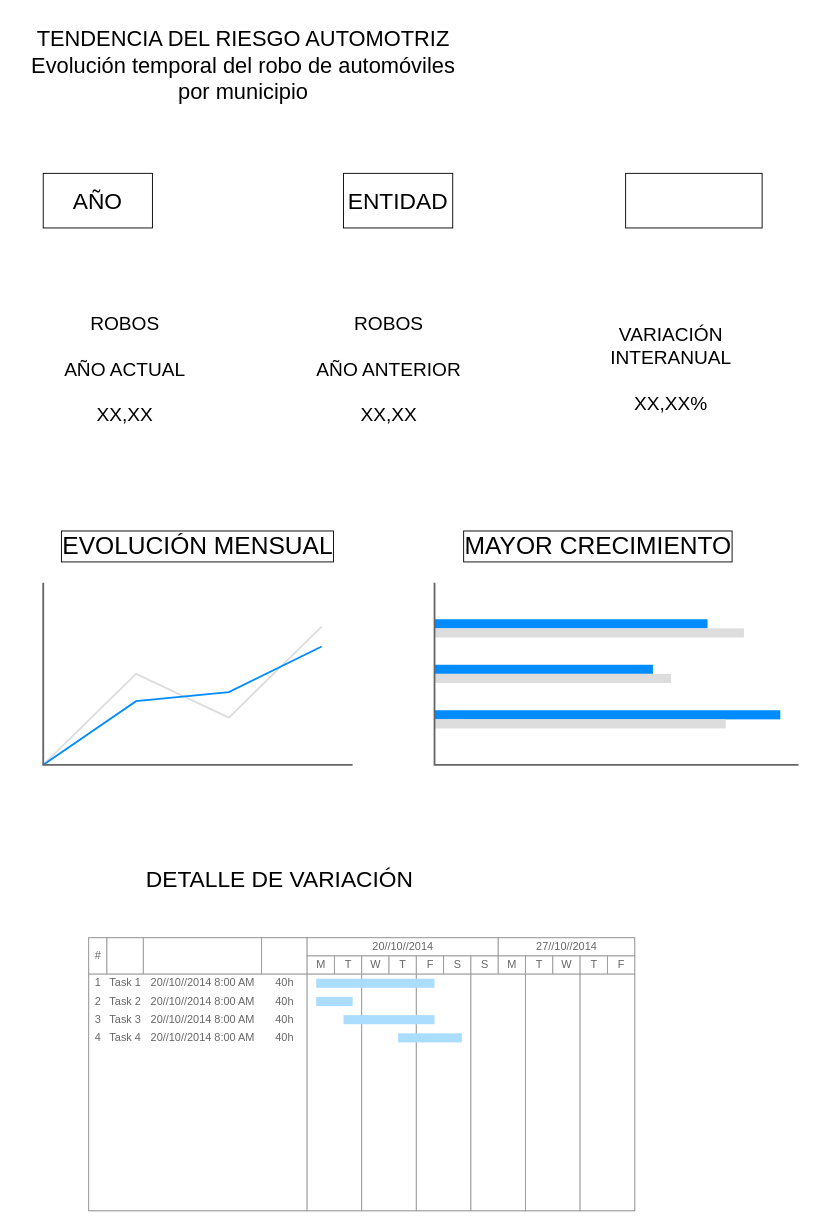
Image size: 814x1227. Some labels were removed from this diagram. The centre of each missing label's shape, as x and y in pixels:
"Effort" goes at pixel 284 955.
"MUNICIPIO" goes at pixel 693 200.
"Start" goes at pixel 202 955.
"Task" goes at pixel 124 955.
